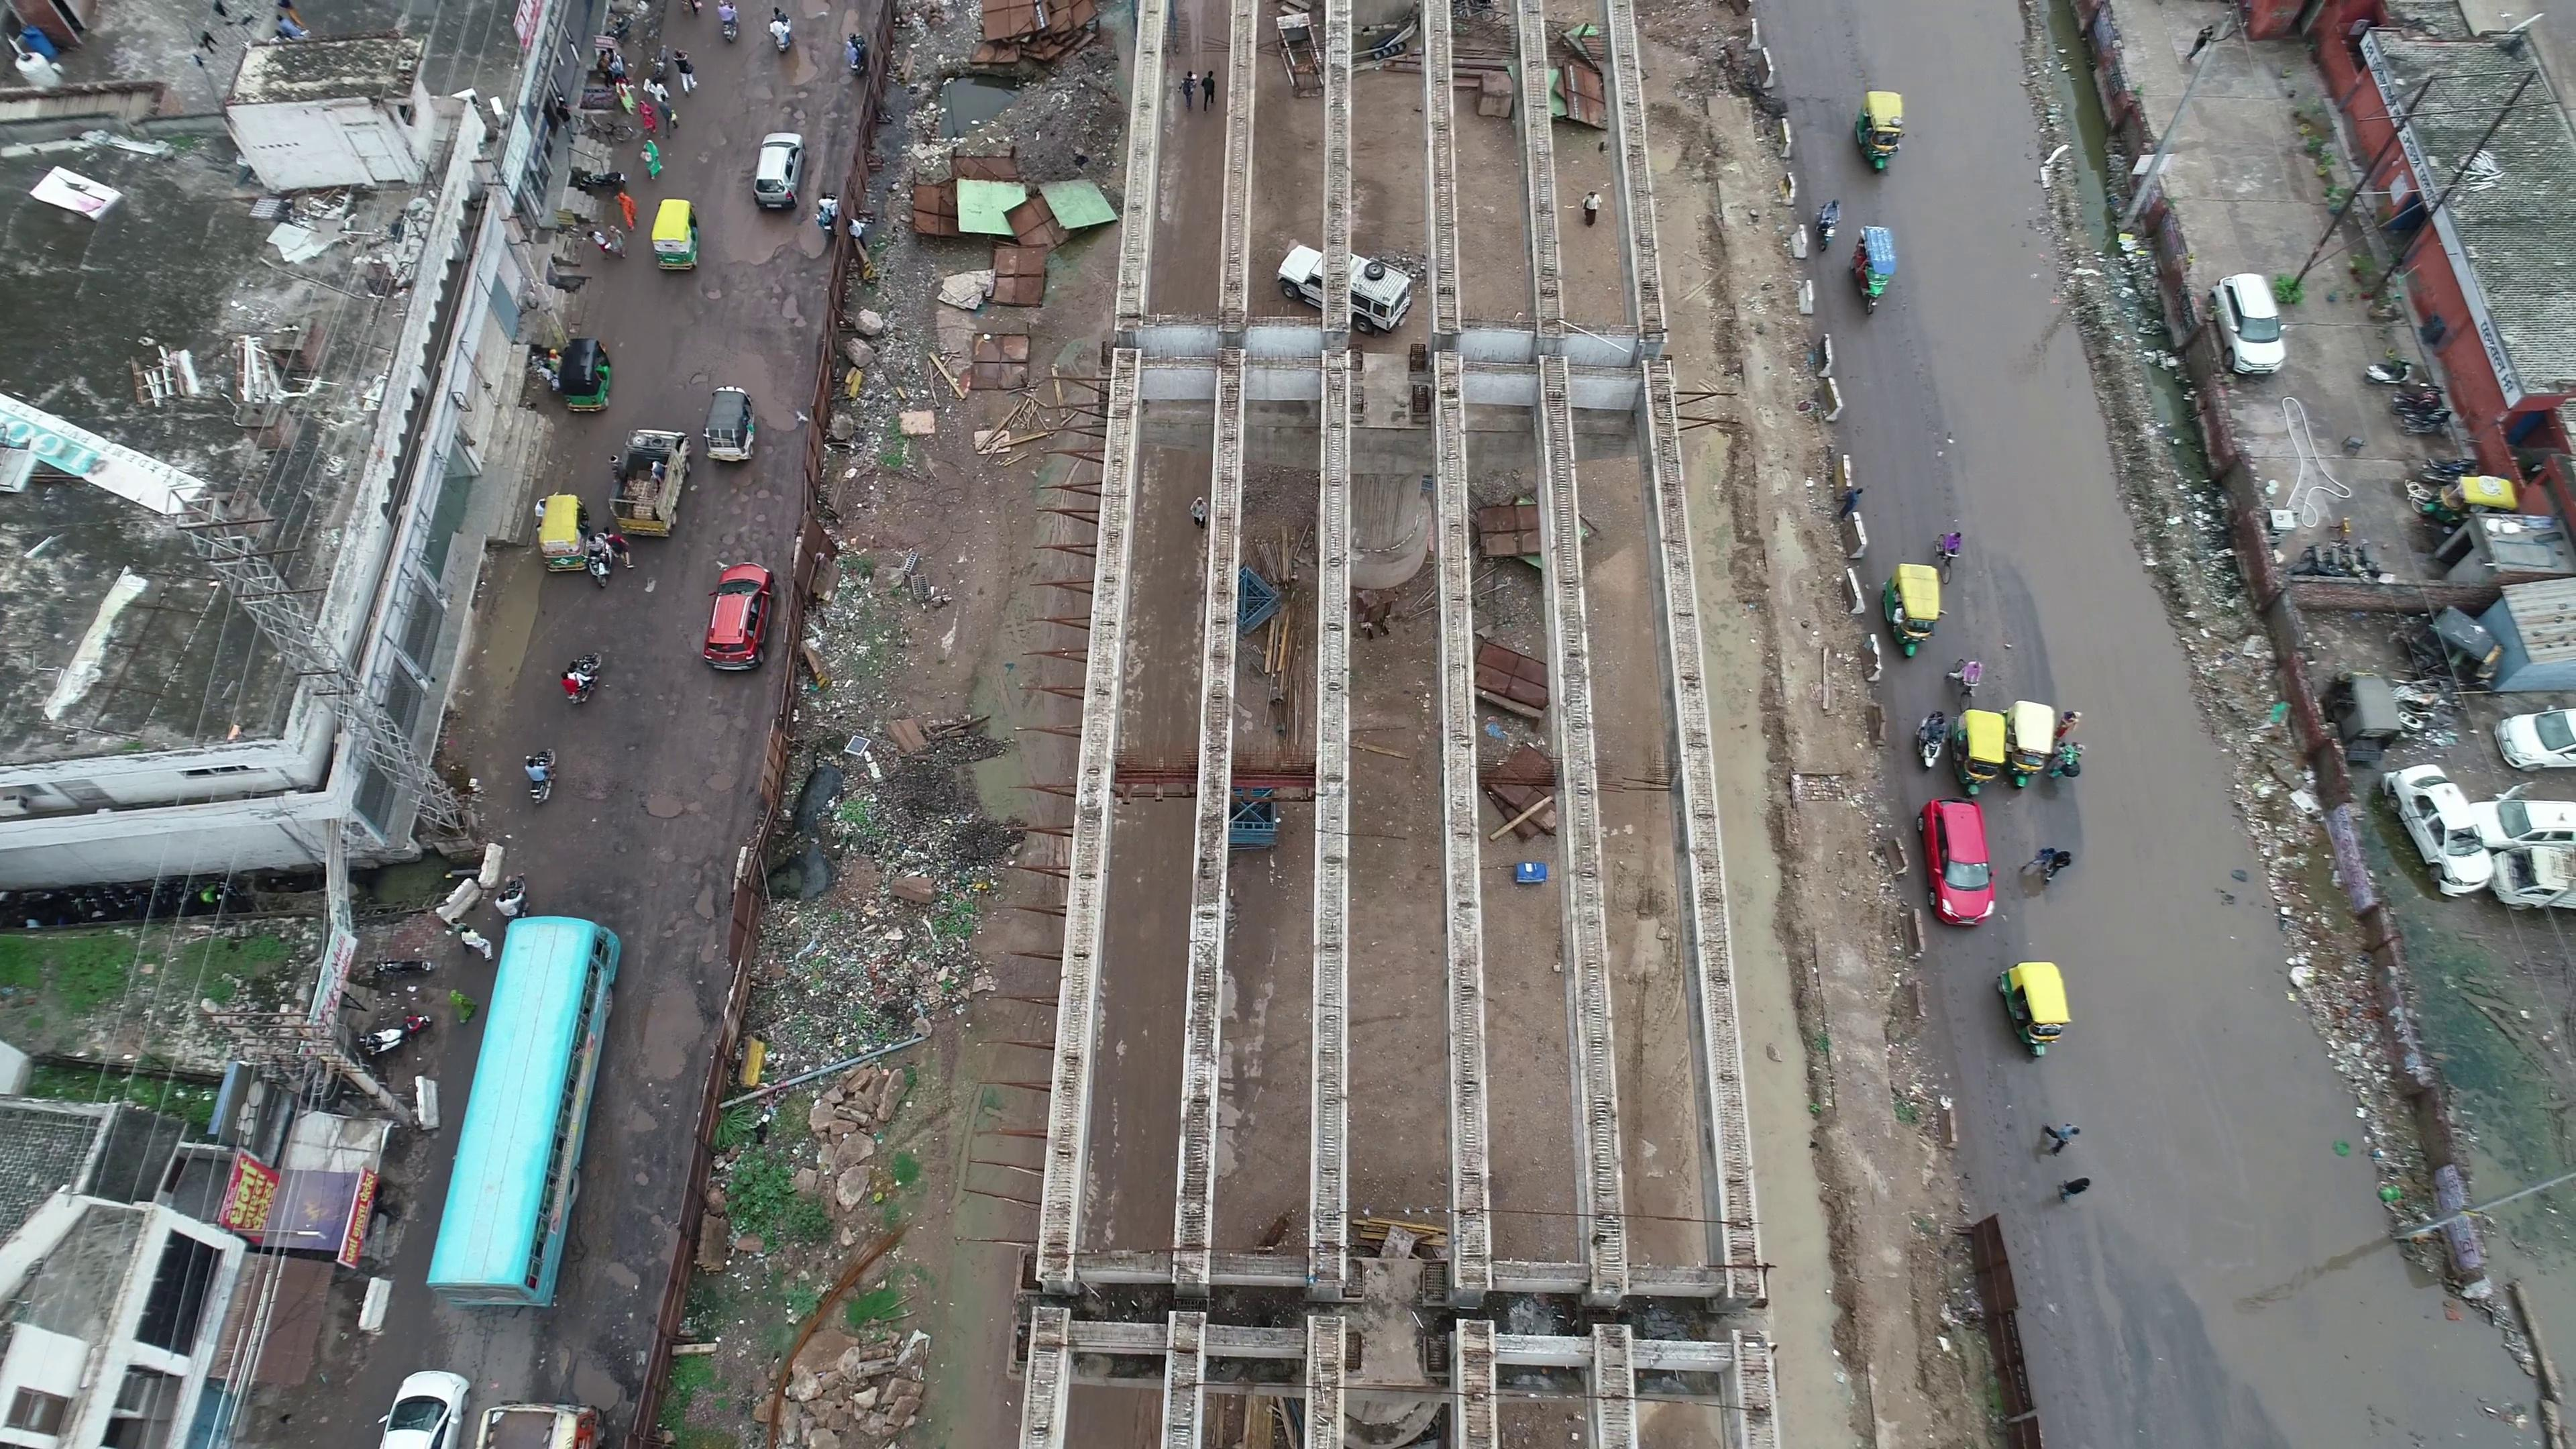Potholes: (633, 679, 736, 844), (617, 849, 727, 998), (708, 237, 819, 356), (708, 472, 794, 580), (734, 46, 826, 138)
Waterlogging: (1904, 133, 2107, 582), (2026, 591, 2235, 977)
